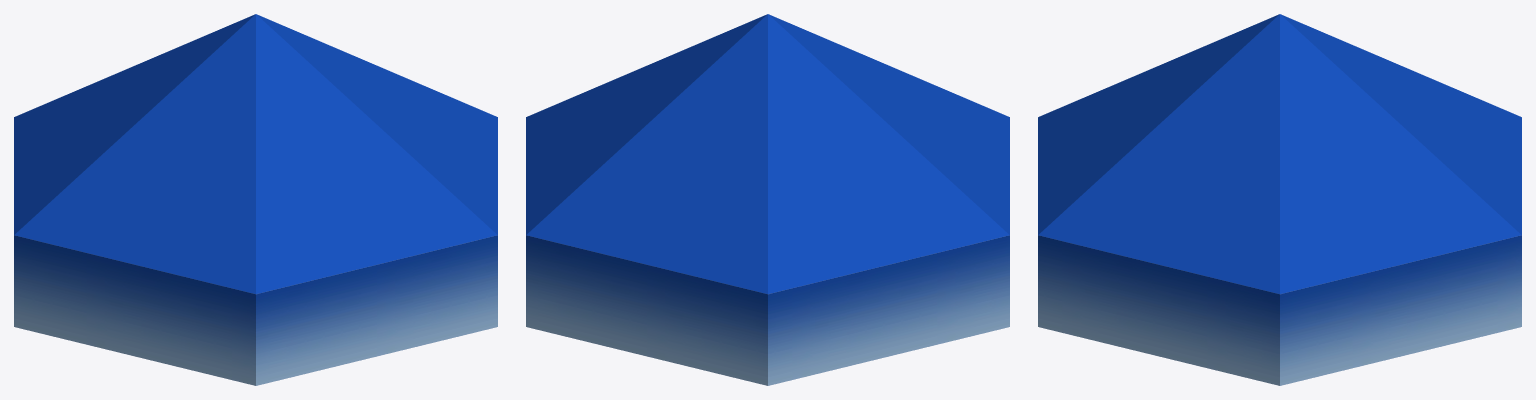
The model's file is ToontownSkybox-transformed.glb.
3 renders of one model, left to right at view 1: azimuth 30°, elevation 25°; view 2: azimuth 150°, elevation 25°; view 3: azimuth 270°, elevation 25°, orthographic.
Parts seen in each view (by area): view 1: TT_sky; view 2: TT_sky; view 3: TT_sky.
Boxes of the visible parts, x1,y1,x2,y2 form: TT_sky: (14,14,497,385); TT_sky: (526,14,1009,385); TT_sky: (1038,14,1521,385).
Bounding box in the file's own units: 698 × 350 × 604.
2 materials, 2 textured.
